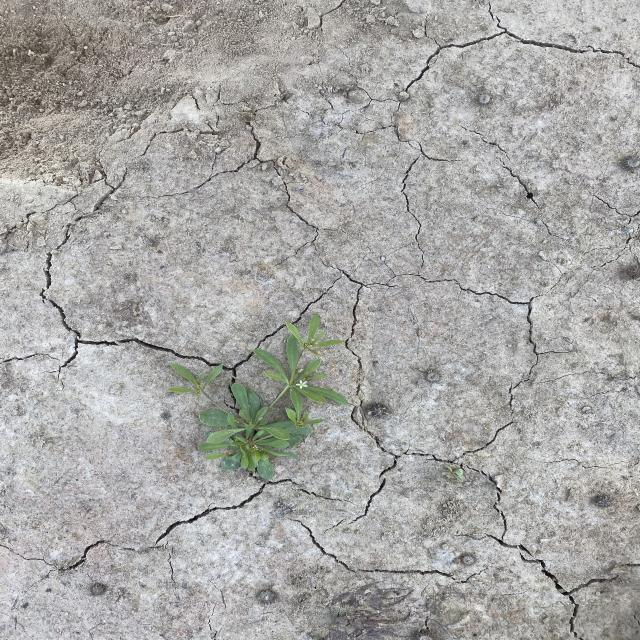Carpetweed: (165, 312, 352, 483)
